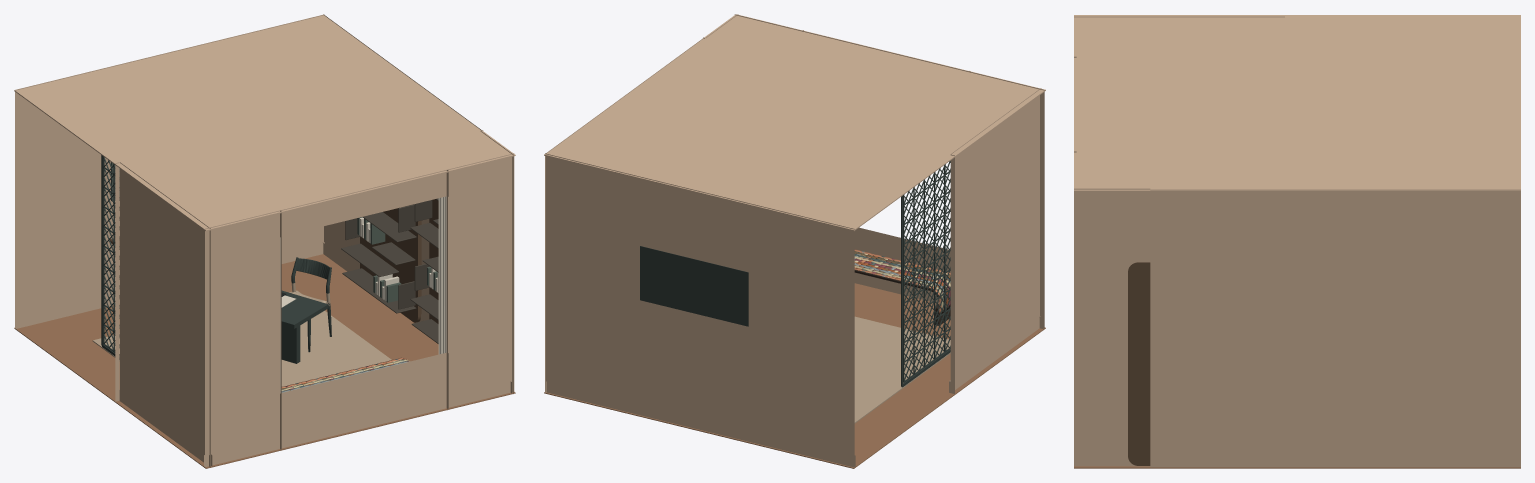
The model's file is formal-3.glb.
3 renders of one model, left to right at view 1: azimuth 30°, elevation 25°; view 2: azimuth 150°, elevation 25°; view 3: azimuth 270°, elevation 25°, orthographic. The views are drawn at different scales.
Parts seen in each view (by area): view 1: DESIGN | formal removable wall finish, DESIGN | formal ceiling finish, DESIGN | formal floor finish, DESIGN | Required Blabla bookcase 2, DESIGN | Formal ground, DESIGN | Kumiko | Listening room acoustic screen, DESIGN | Required Blabla bookcase 1, DESIGN | Formal soft window edge.001, DESIGN | Working chair facing desk, DESIGN | Working desk top, DESIGN | Required Brera anniversary window bench, DESIGN | Working desk trestle.001; view 2: DESIGN | formal removable wall finish, DESIGN | formal ceiling finish, DESIGN | formal floor finish, DESIGN | Kumiko | Listening room acoustic screen, DESIGN | Quiet artwork frame, DESIGN | Formal ground, DESIGN | Required Brera anniversary window bench; view 3: DESIGN | formal removable wall finish, DESIGN | formal ceiling finish, DESIGN | Required Blabla bookcase 1, DESIGN | formal floor finish.
Part boxes in pixels (left/top/right/bottom): DESIGN | formal removable wall finish: left=15, top=14, right=514, bottom=466; DESIGN | formal ceiling finish: left=14, top=15, right=515, bottom=231; DESIGN | formal floor finish: left=14, top=254, right=515, bottom=468; DESIGN | Required Blabla bookcase 2: left=341, top=204, right=421, bottom=322; DESIGN | Formal ground: left=92, top=290, right=391, bottom=386; DESIGN | Kumiko | Listening room acoustic screen: left=101, top=155, right=119, bottom=359; DESIGN | Required Blabla bookcase 1: left=410, top=198, right=438, bottom=343; DESIGN | Formal soft window edge.001: left=438, top=196, right=446, bottom=354; DESIGN | Working chair facing desk: left=291, top=257, right=331, bottom=352; DESIGN | Working desk top: left=281, top=290, right=328, bottom=328; DESIGN | Required Brera anniversary window bench: left=281, top=357, right=409, bottom=392; DESIGN | Working desk trestle.001: left=281, top=325, right=300, bottom=363; DESIGN | formal removable wall finish: left=545, top=14, right=1044, bottom=467; DESIGN | formal ceiling finish: left=544, top=14, right=1045, bottom=231; DESIGN | formal floor finish: left=544, top=283, right=1045, bottom=468; DESIGN | Kumiko | Listening room acoustic screen: left=901, top=161, right=950, bottom=387; DESIGN | Quiet artwork frame: left=640, top=246, right=748, bottom=326; DESIGN | Formal ground: left=854, top=316, right=950, bottom=423; DESIGN | Required Brera anniversary window bench: left=854, top=249, right=950, bottom=325; DESIGN | formal removable wall finish: left=1074, top=16, right=1520, bottom=467; DESIGN | formal ceiling finish: left=1074, top=15, right=1520, bottom=191; DESIGN | Required Blabla bookcase 1: left=1128, top=262, right=1150, bottom=465; DESIGN | formal floor finish: left=1074, top=466, right=1520, bottom=468.
Bounding box in the file's own units: 3.71 × 2.74 × 3.98.
